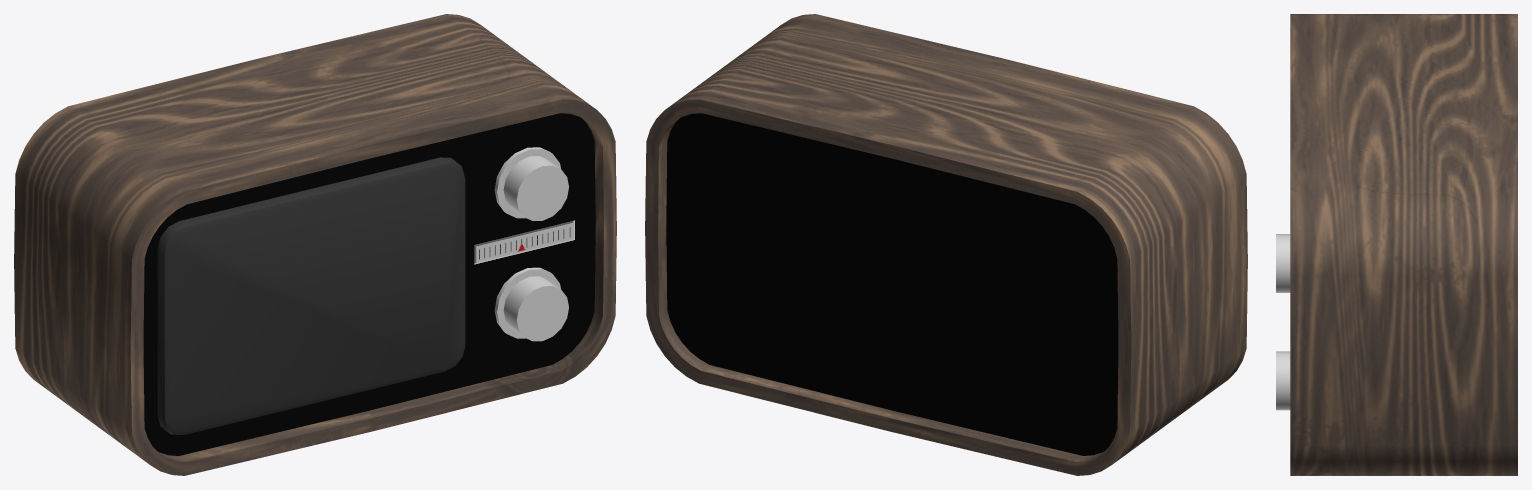
The model's file is Radio.fbx.
The picture shows the model from 3 angles, left to right: view 1: azimuth 30°, elevation 25°; view 2: azimuth 150°, elevation 25°; view 3: azimuth 270°, elevation 25°; orthographic projection. The views are drawn at different scales.
Parts seen in each view (by area): view 1: Radio; view 2: Radio; view 3: Radio.
Part boxes in pixels (left/top/right/bottom): Radio: left=14, top=14, right=616, bottom=475; Radio: left=645, top=14, right=1247, bottom=475; Radio: left=1276, top=14, right=1517, bottom=475.
Bounding box in the file's own units: 255 × 144 × 113.
